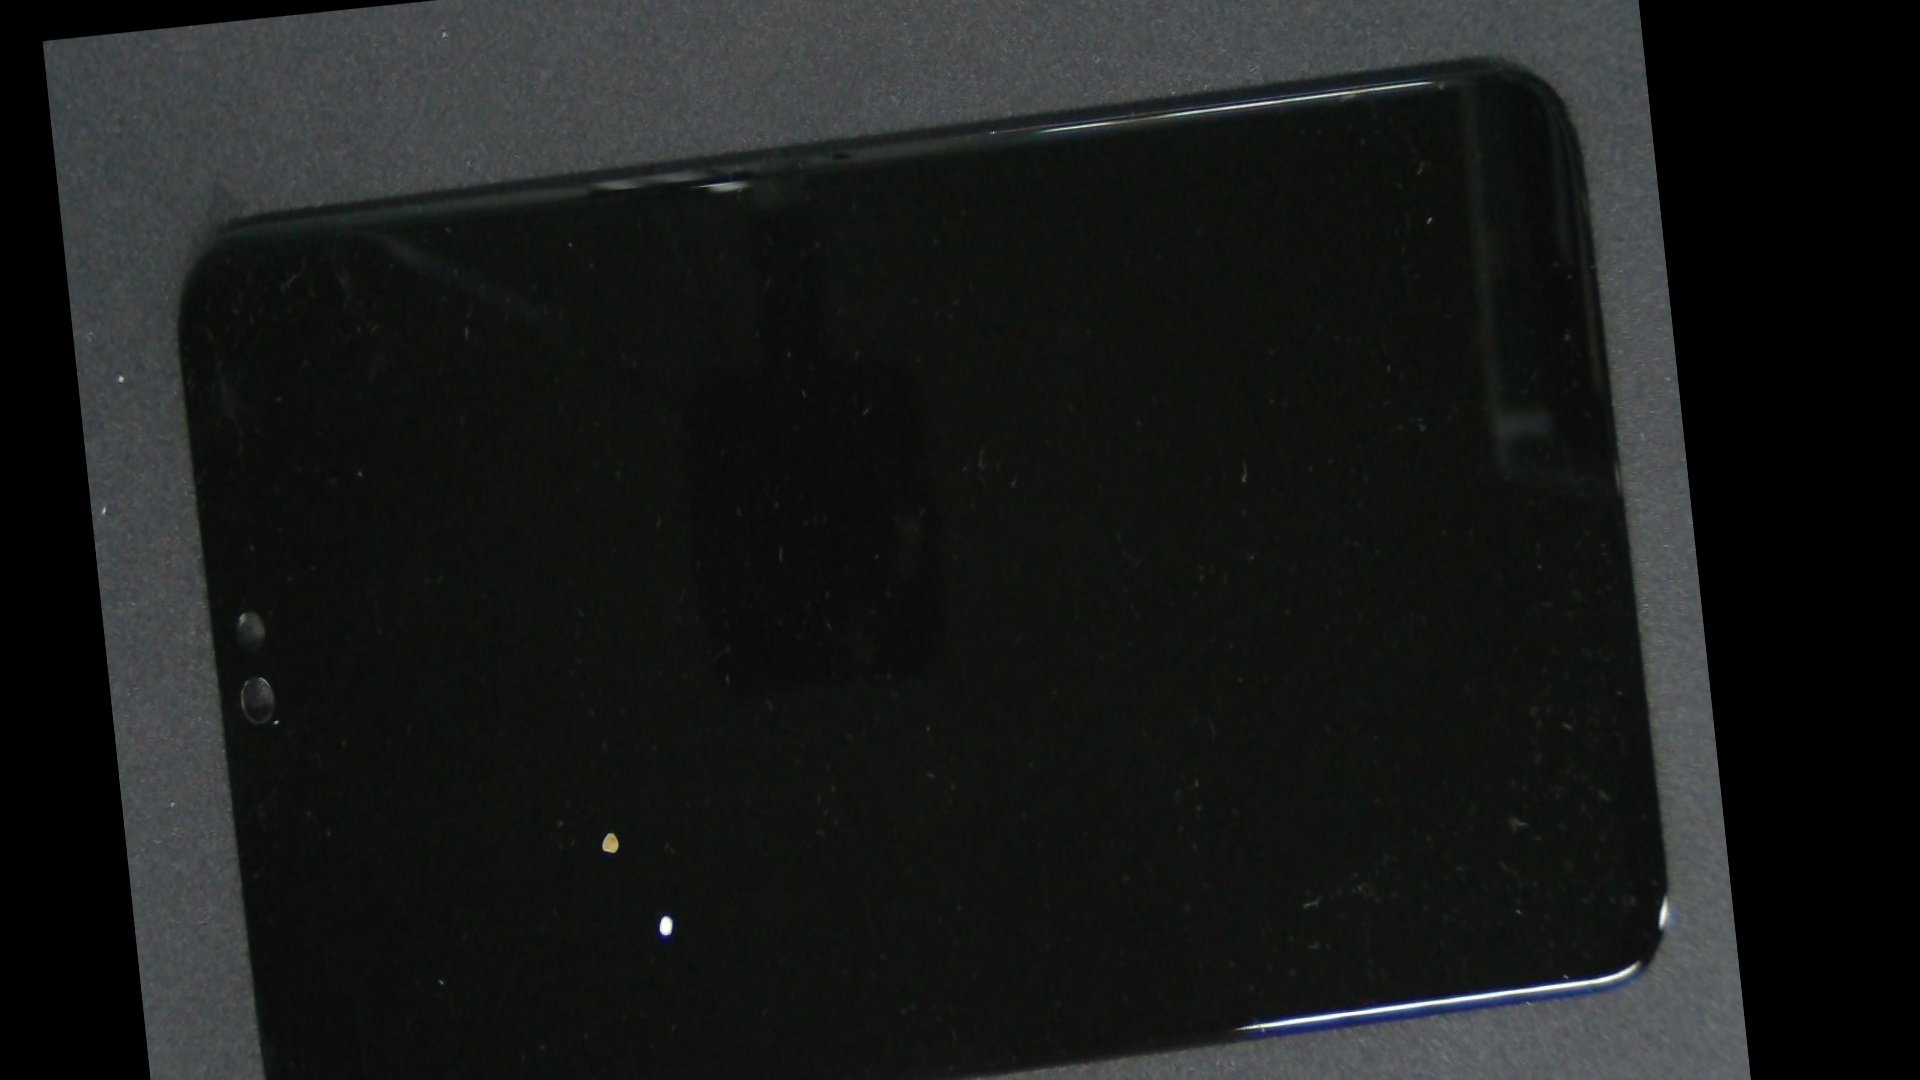oil: (353, 423, 960, 1080), (326, 386, 889, 1080)
